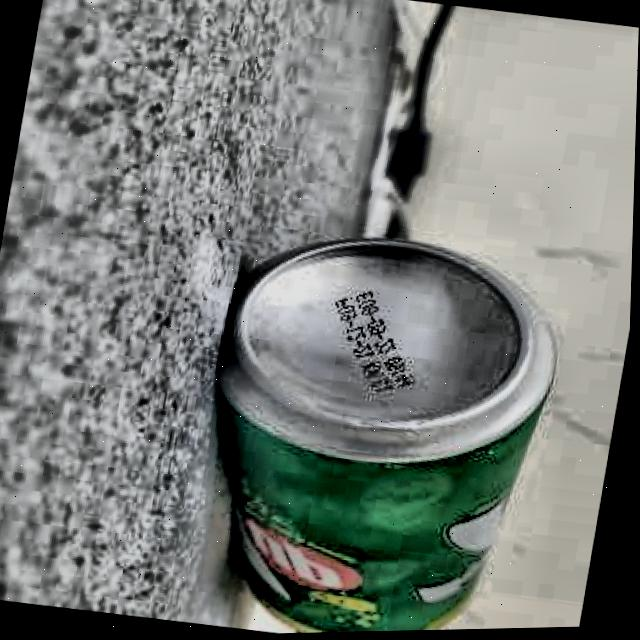metal: (217, 237, 561, 634)
